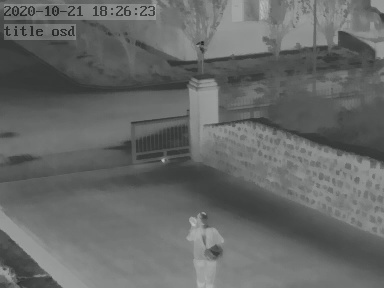person: (193, 207, 217, 288)
